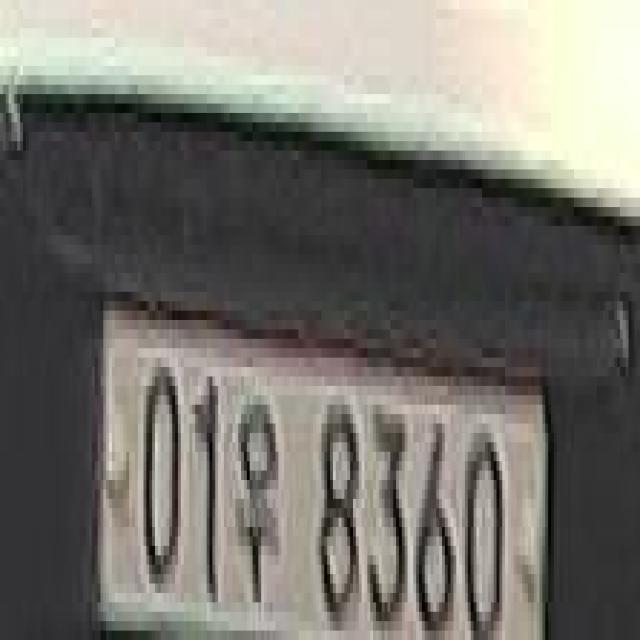illegal_plate: (94, 305, 558, 640)
